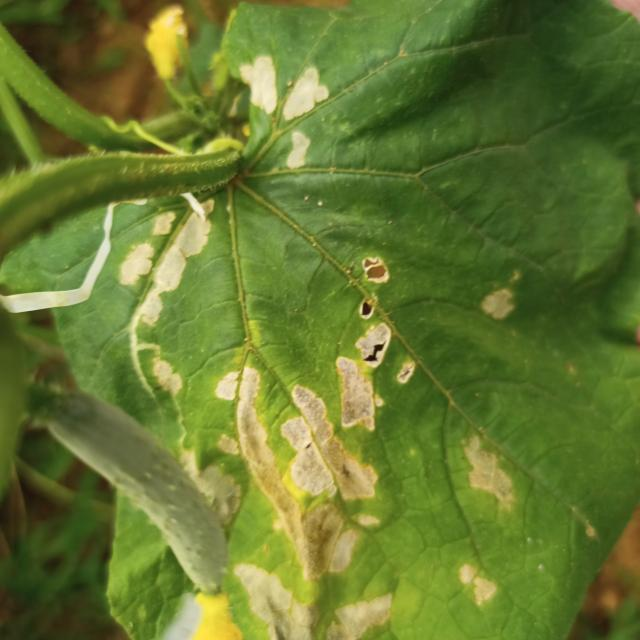disease_cucumber: (121, 201, 518, 640), (238, 57, 327, 172)
